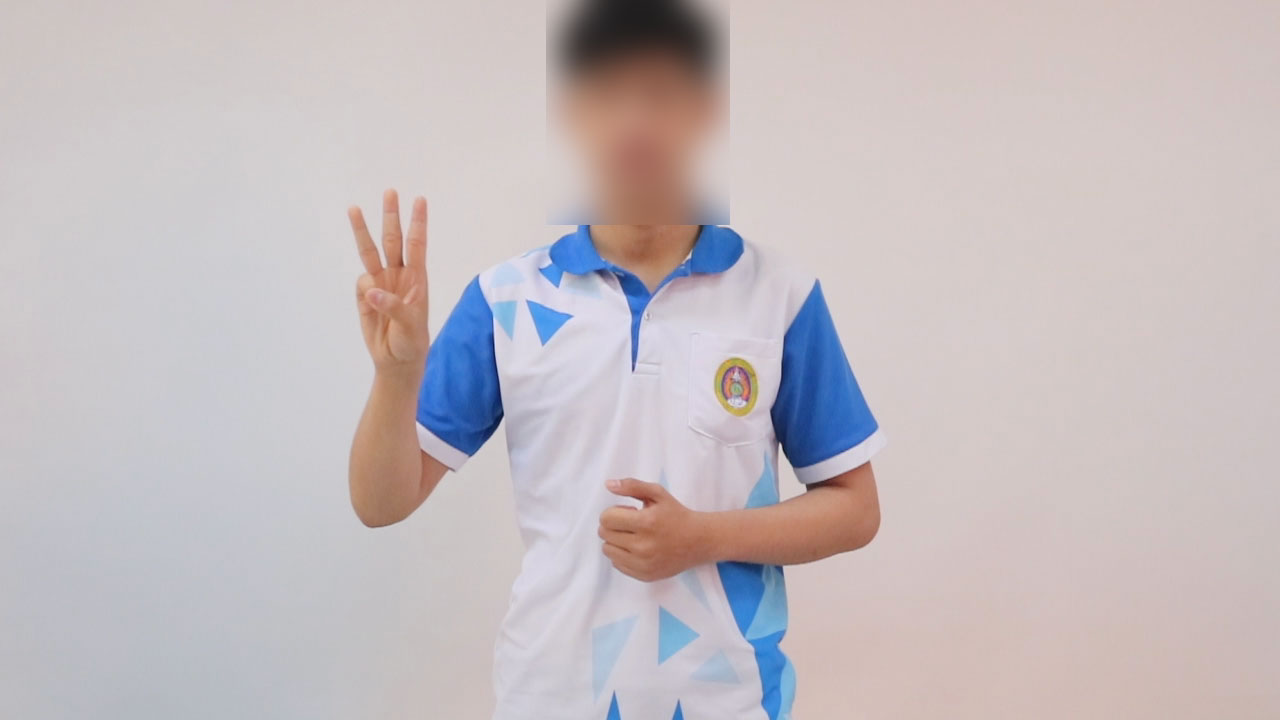wor: (343, 180, 438, 378)
